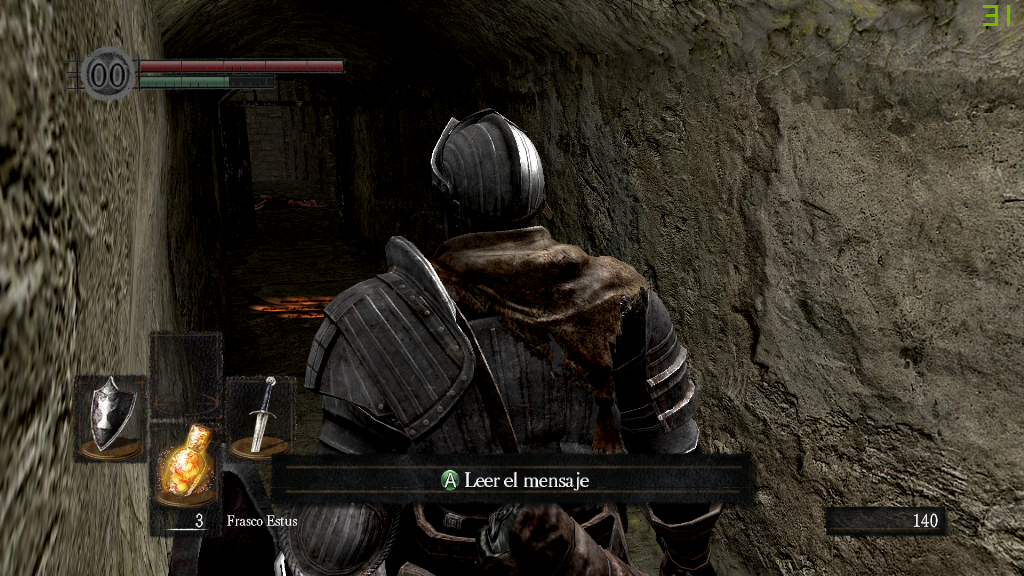dialogBox: (271, 455, 754, 507)
health: (138, 58, 343, 71)
humanity: (80, 45, 136, 102)
player: (166, 108, 726, 576)
souls: (825, 506, 945, 536)
stamina: (138, 74, 274, 88)
